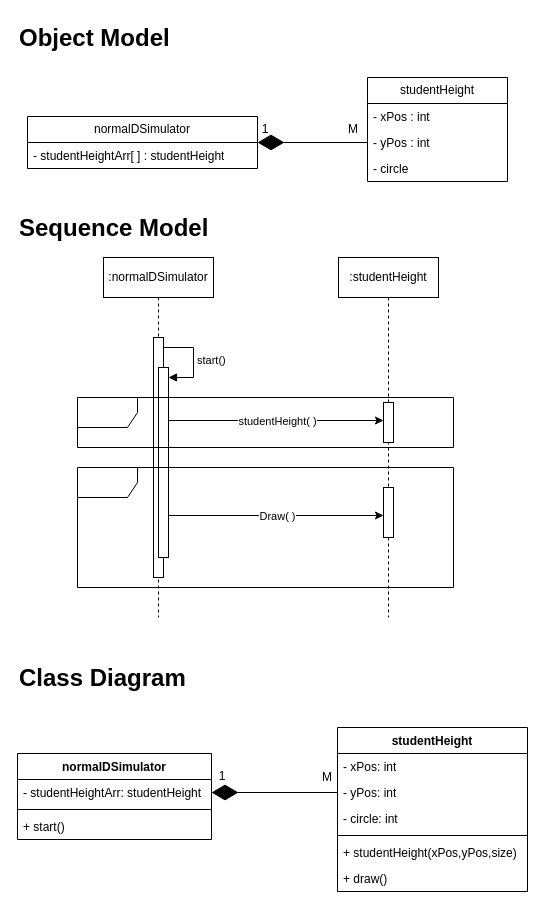
Some shapes in this 545 by 911 pixel diagram are drawn without their labels. Each missing label, with the box of its shape:
frame: (76, 466, 454, 588)
loop: (76, 396, 454, 448)
